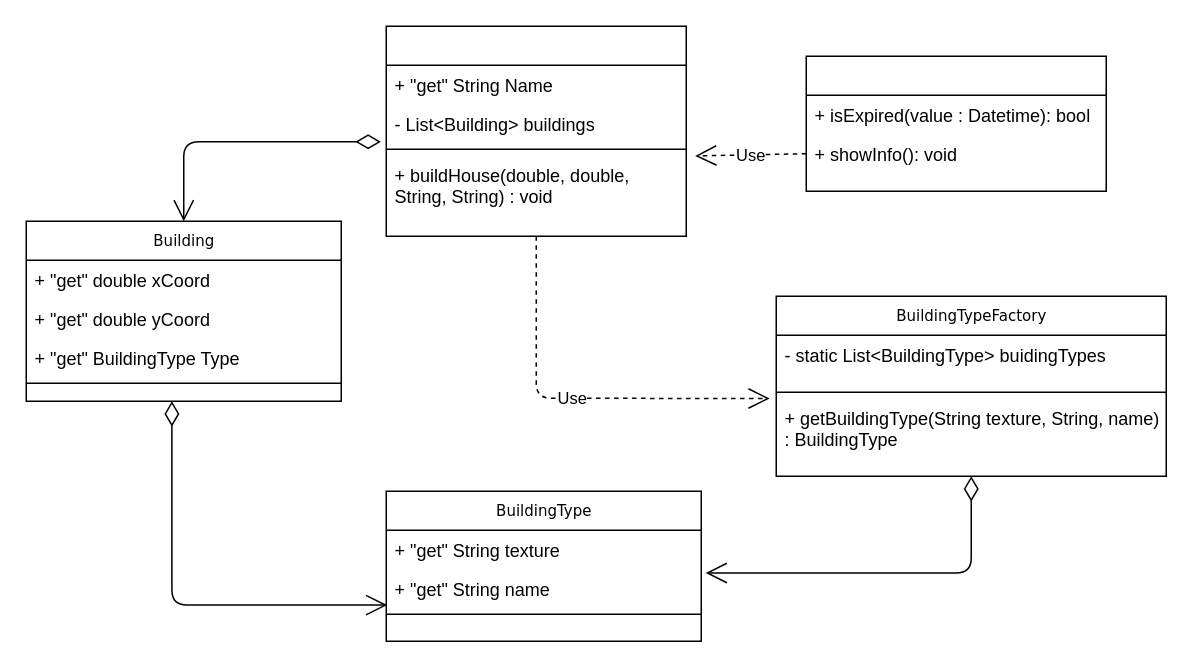
Some shapes in this 1193 by 668 pixel diagram are drawn without their labels. The shapes that lost their labels are listed below. From the top down, each one's box as (x1, y1, x2, y2) in pixels, then its label:
(385, 25, 686, 236): Town
(805, 55, 1106, 191): Program
